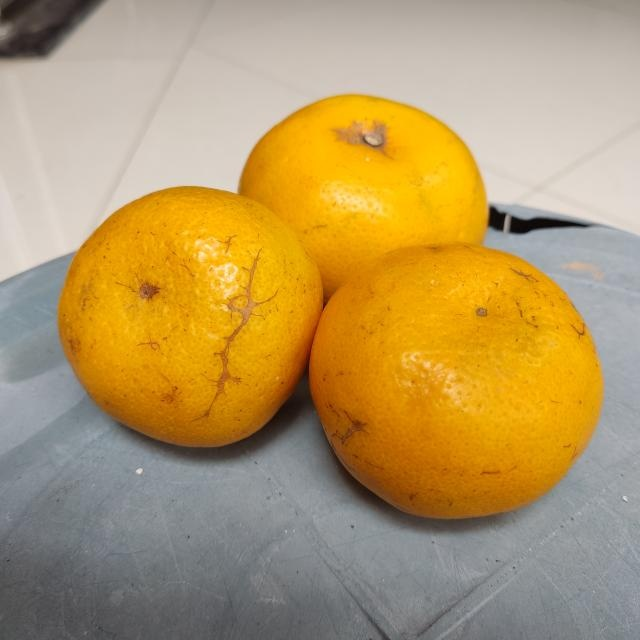agrume: (309, 242, 607, 530), (56, 183, 324, 454), (237, 91, 490, 278)
